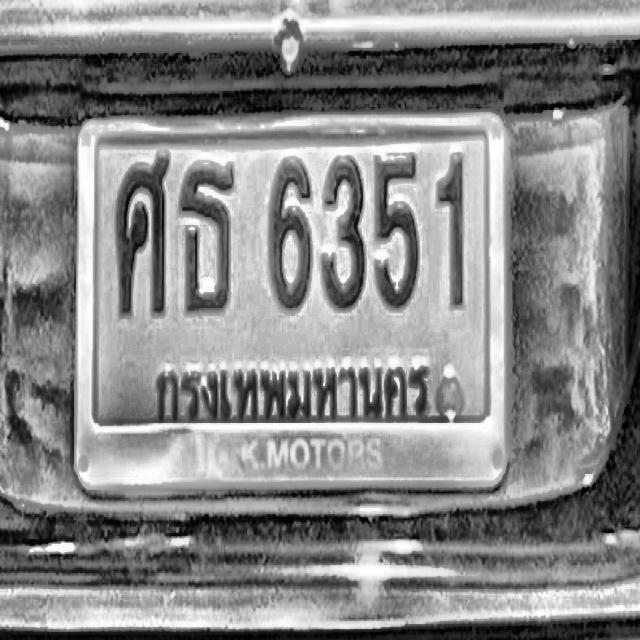license-plate: (69, 102, 513, 499)
